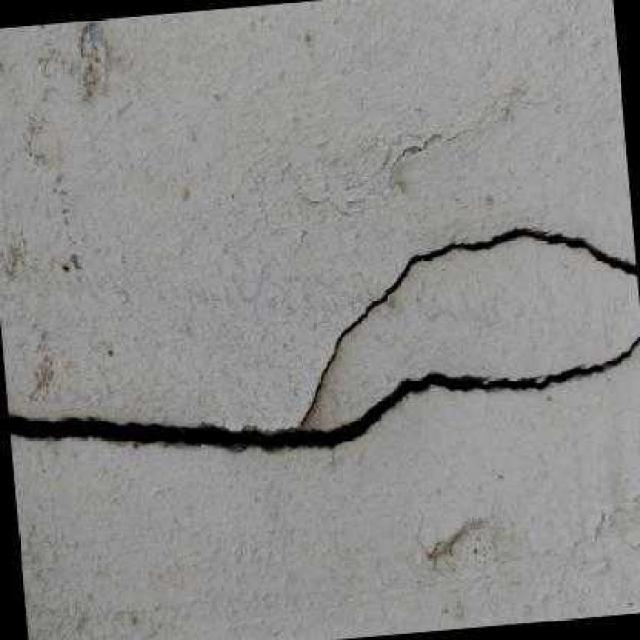D00: (9, 223, 640, 458)
